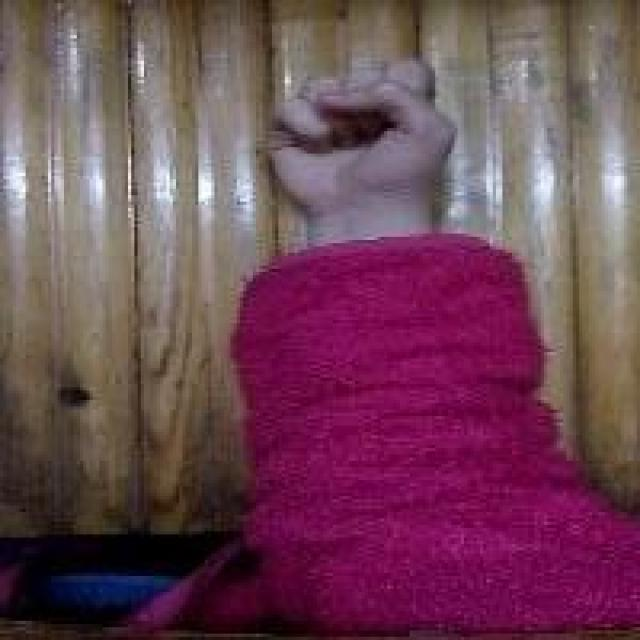S: (259, 53, 461, 203)
